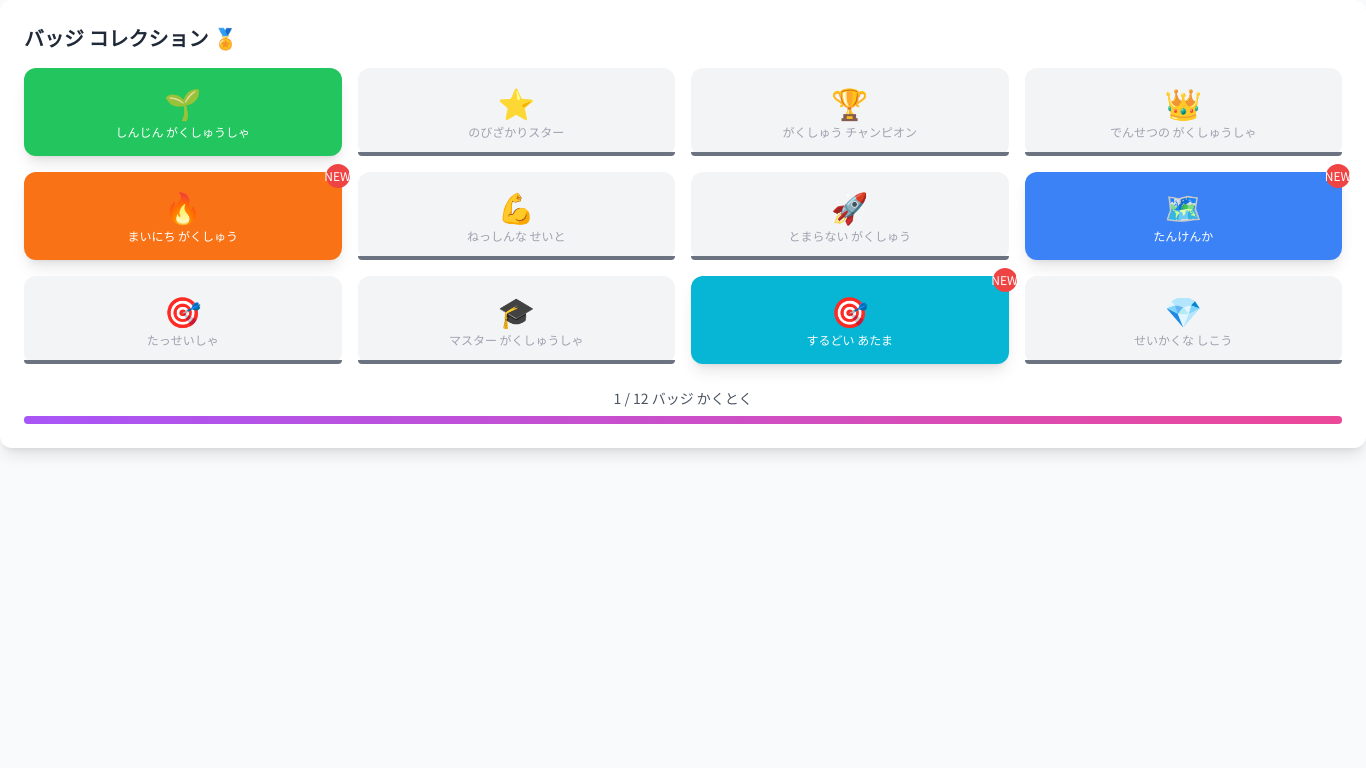
BadgeReward › closes modal when close button is clicked
This screenshot has width=1366, height=768.
Step 1. Click the button "🌱 しんじん がくしゅうしゃ" → (183,112), box [24,68,342,156]
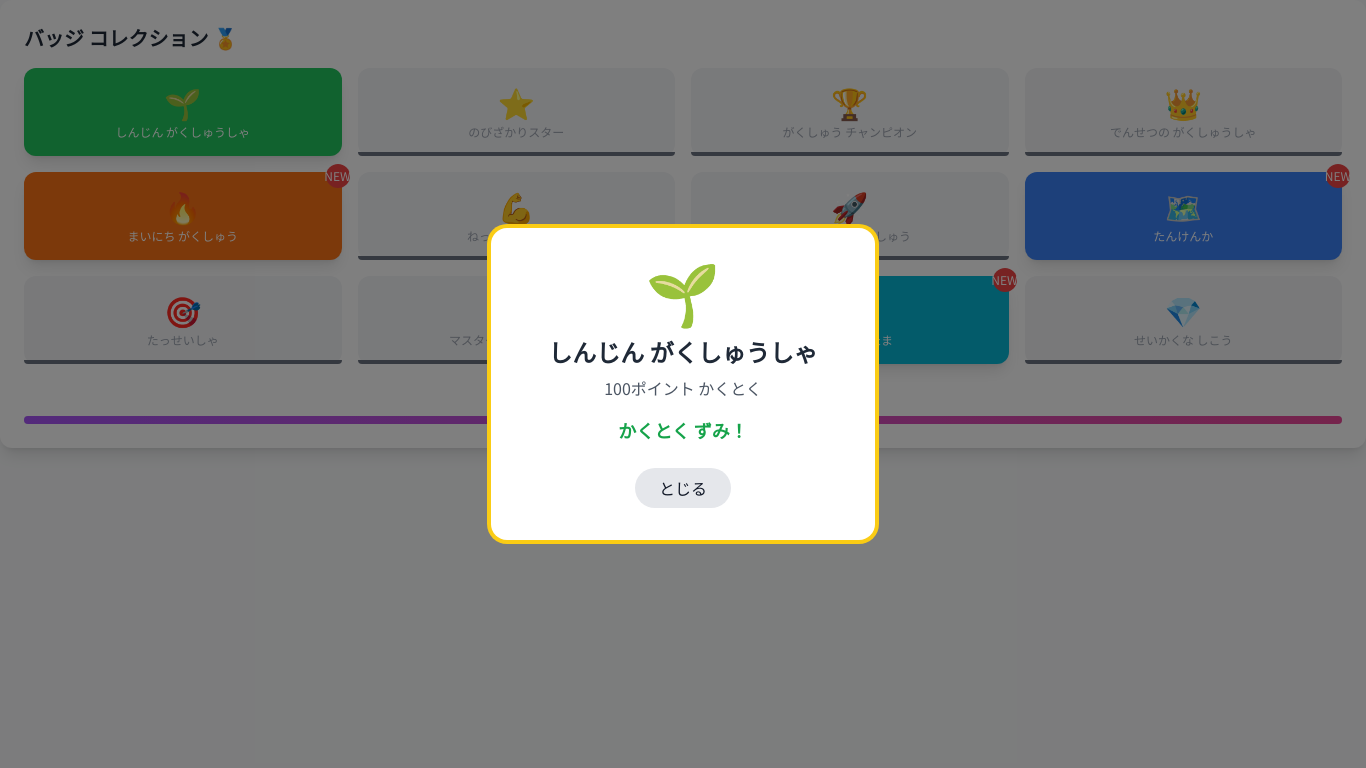
Step 2. Click the button "とじる" → (683,488), box [635,468,731,508]
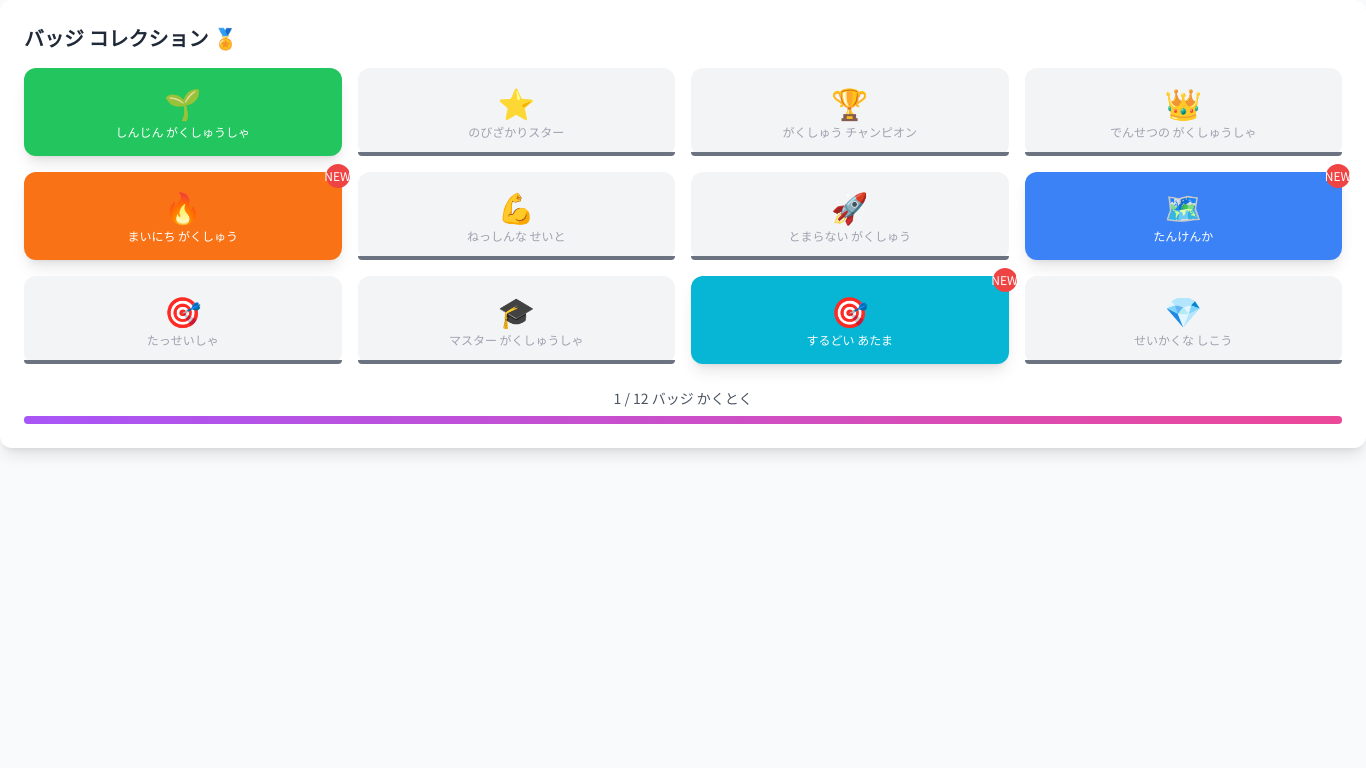
Result: the text "100ポイント かくとく" is gone
